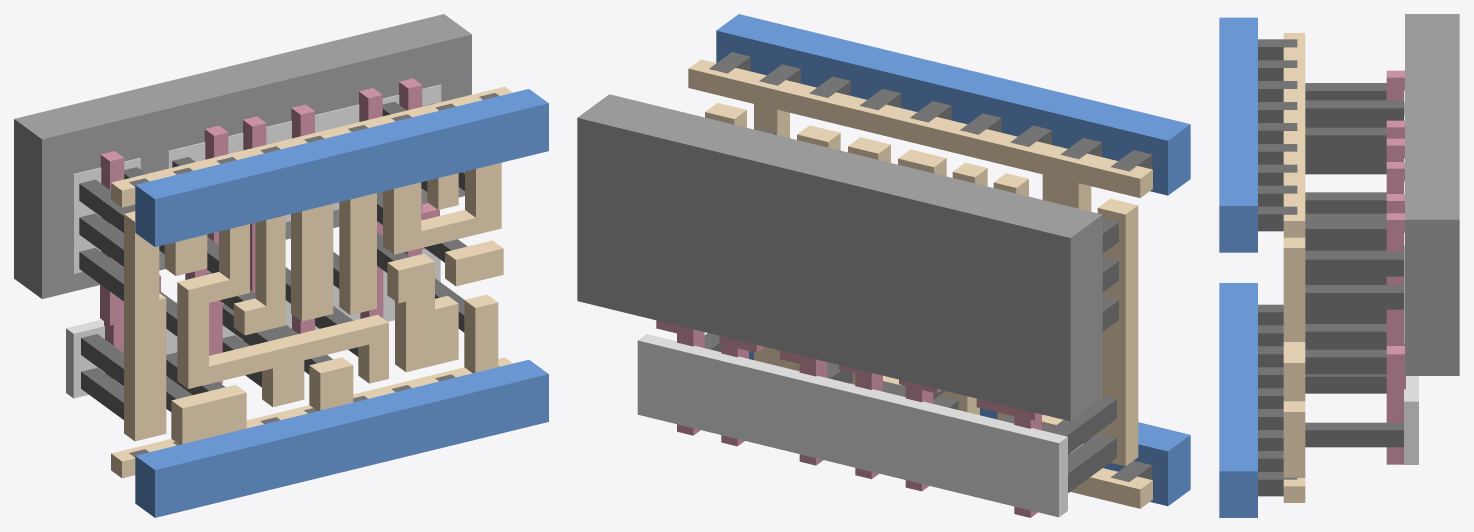
The model's file is sky130_fd_sc_hd__a2111o_1.gds.gltf.
The picture shows the model from 3 angles, left to right: view 1: azimuth 30°, elevation 25°; view 2: azimuth 150°, elevation 25°; view 3: azimuth 270°, elevation 25°; orthographic projection. The views are drawn at different scales.
Visible parts, largest first — view 1: sky130_fd_sc_hd__a2111o_1_li1, sky130_fd_sc_hd__a2111o_1_met1, sky130_fd_sc_hd__a2111o_1_nwell, sky130_fd_sc_hd__a2111o_1_licon, sky130_fd_sc_hd__a2111o_1_poly, sky130_fd_sc_hd__a2111o_1_diff, sky130_fd_sc_hd__a2111o_1_mcon; view 2: sky130_fd_sc_hd__a2111o_1_nwell, sky130_fd_sc_hd__a2111o_1_diff, sky130_fd_sc_hd__a2111o_1_li1, sky130_fd_sc_hd__a2111o_1_met1, sky130_fd_sc_hd__a2111o_1_licon, sky130_fd_sc_hd__a2111o_1_mcon, sky130_fd_sc_hd__a2111o_1_poly; view 3: sky130_fd_sc_hd__a2111o_1_licon, sky130_fd_sc_hd__a2111o_1_nwell, sky130_fd_sc_hd__a2111o_1_met1, sky130_fd_sc_hd__a2111o_1_mcon, sky130_fd_sc_hd__a2111o_1_li1, sky130_fd_sc_hd__a2111o_1_poly, sky130_fd_sc_hd__a2111o_1_diff.
Part boxes in pixels (<box>): sky130_fd_sc_hd__a2111o_1_li1: <box>111,86,512,478</box>; sky130_fd_sc_hd__a2111o_1_met1: <box>135,89,548,517</box>; sky130_fd_sc_hd__a2111o_1_nwell: <box>14,14,471,298</box>; sky130_fd_sc_hd__a2111o_1_licon: <box>79,101,467,419</box>; sky130_fd_sc_hd__a2111o_1_poly: <box>100,78,439,386</box>; sky130_fd_sc_hd__a2111o_1_diff: <box>66,84,441,398</box>; sky130_fd_sc_hd__a2111o_1_mcon: <box>129,93,499,457</box>; sky130_fd_sc_hd__a2111o_1_nwell: <box>577,94,1102,421</box>; sky130_fd_sc_hd__a2111o_1_diff: <box>637,334,1067,517</box>; sky130_fd_sc_hd__a2111o_1_li1: <box>688,59,1152,508</box>; sky130_fd_sc_hd__a2111o_1_met1: <box>716,14,1190,506</box>; sky130_fd_sc_hd__a2111o_1_licon: <box>704,128,1118,492</box>; sky130_fd_sc_hd__a2111o_1_mcon: <box>709,52,1152,481</box>; sky130_fd_sc_hd__a2111o_1_poly: <box>656,320,1042,517</box>; sky130_fd_sc_hd__a2111o_1_licon: <box>1305,83,1403,447</box>; sky130_fd_sc_hd__a2111o_1_nwell: <box>1405,14,1459,375</box>; sky130_fd_sc_hd__a2111o_1_met1: <box>1219,17,1257,517</box>; sky130_fd_sc_hd__a2111o_1_mcon: <box>1258,39,1297,496</box>; sky130_fd_sc_hd__a2111o_1_li1: <box>1283,33,1305,502</box>; sky130_fd_sc_hd__a2111o_1_poly: <box>1386,70,1405,464</box>; sky130_fd_sc_hd__a2111o_1_diff: <box>1404,70,1418,464</box>.
Size of the model in its own units: 4.52 by 3.2 by 2.24.
